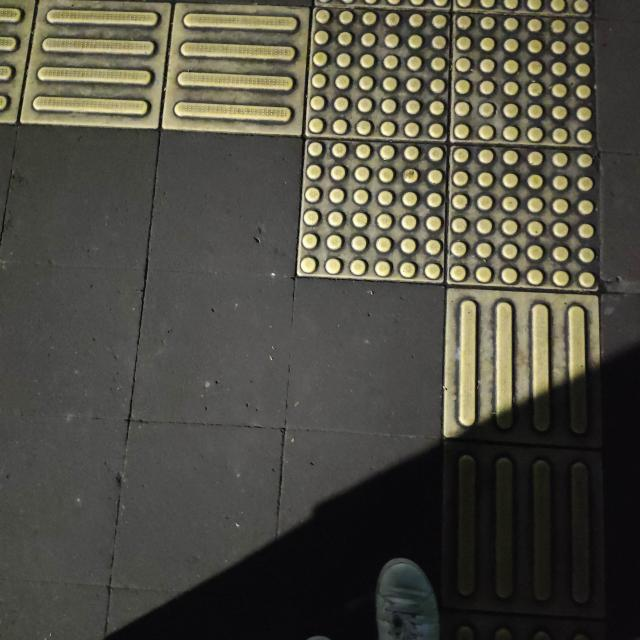kiri: (90, 0, 639, 416)
